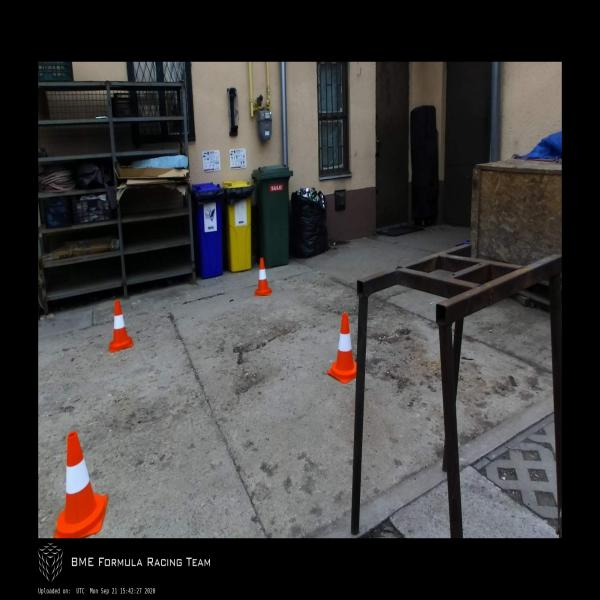orange_cone: (53, 430, 107, 538), (327, 312, 357, 383), (108, 300, 134, 353), (254, 258, 272, 296)
